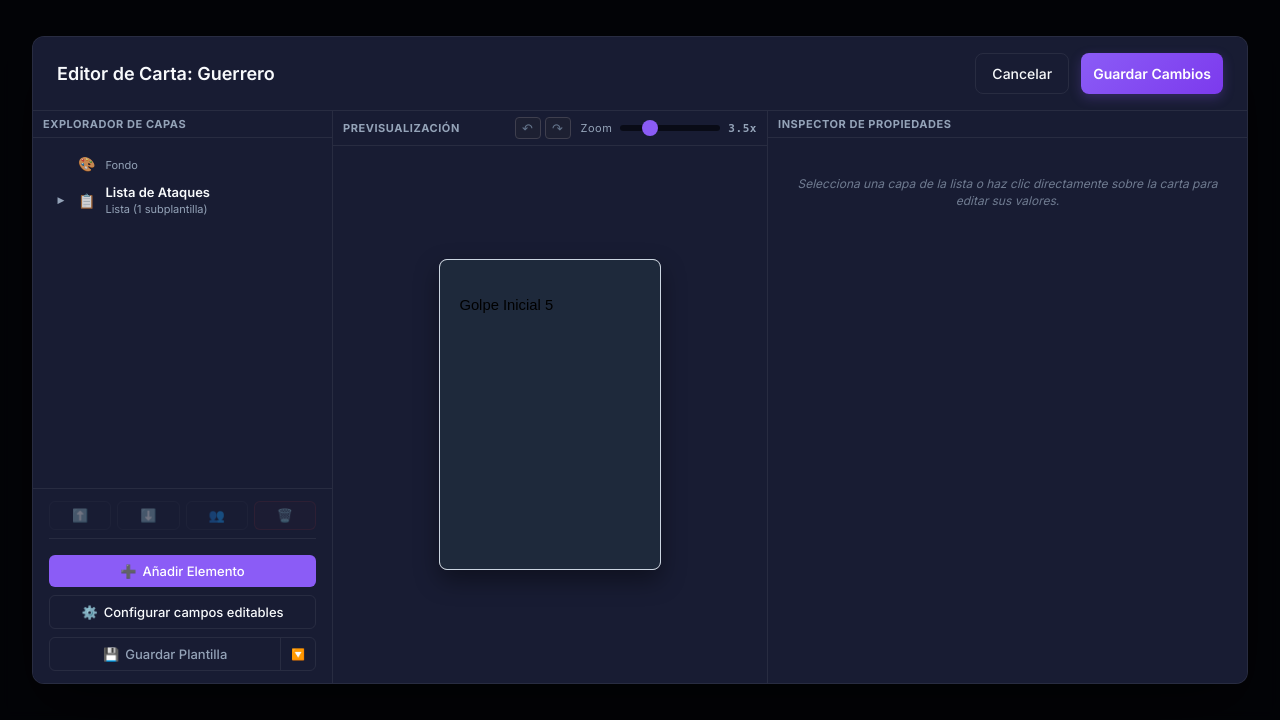
Test case: SRS-072: Elemento Lista con Subplantillas Hijas y Gestión Dinámica › RF-2: Inspector de Lista en EditCardModal › permite añadir instancias de la subplantilla a la plantilla
The image size is (1280, 720).
What coordinates should you click on to do the following:
click the text "Lista de Ataques"
I would click on:
 (132, 200)
Its box is [54,184,210,216].
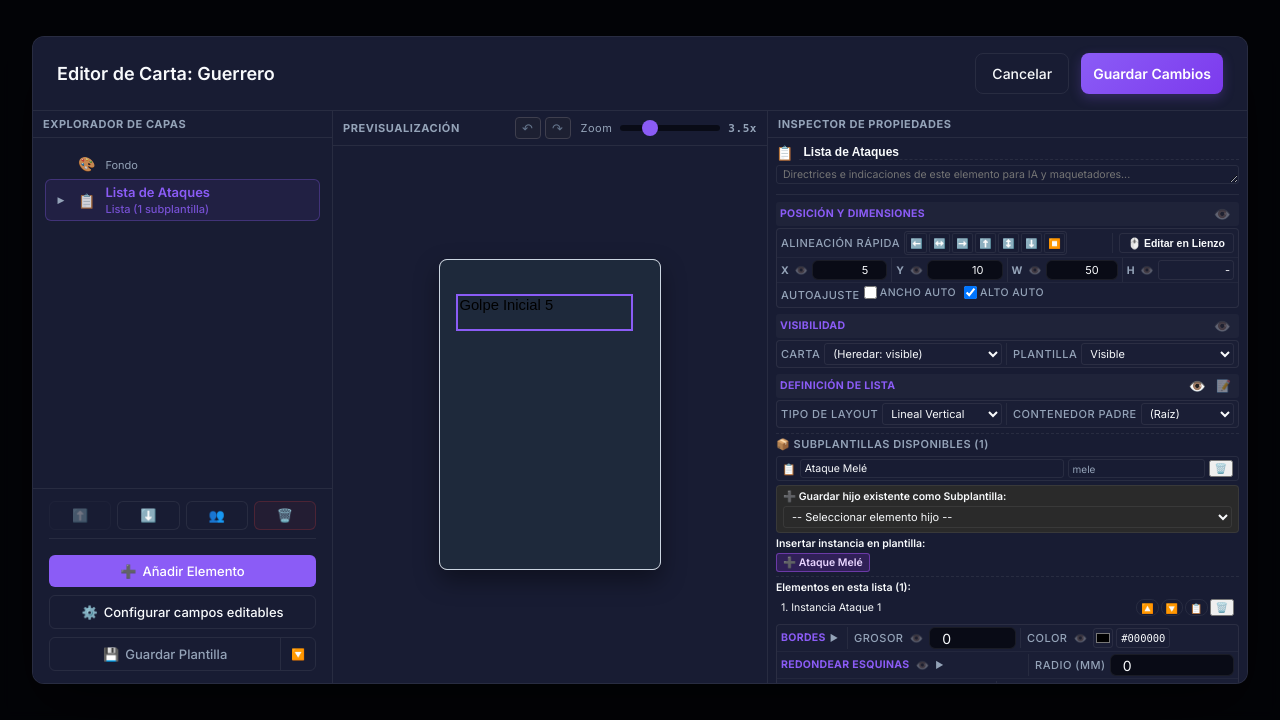
Result: the button "➕ Ataque Melé" is shown
What coordinates should you click on to do the following:
click the button "➕ Ataque Melé"
I would click on:
 (823, 563)
Its box is [776,553,870,572].
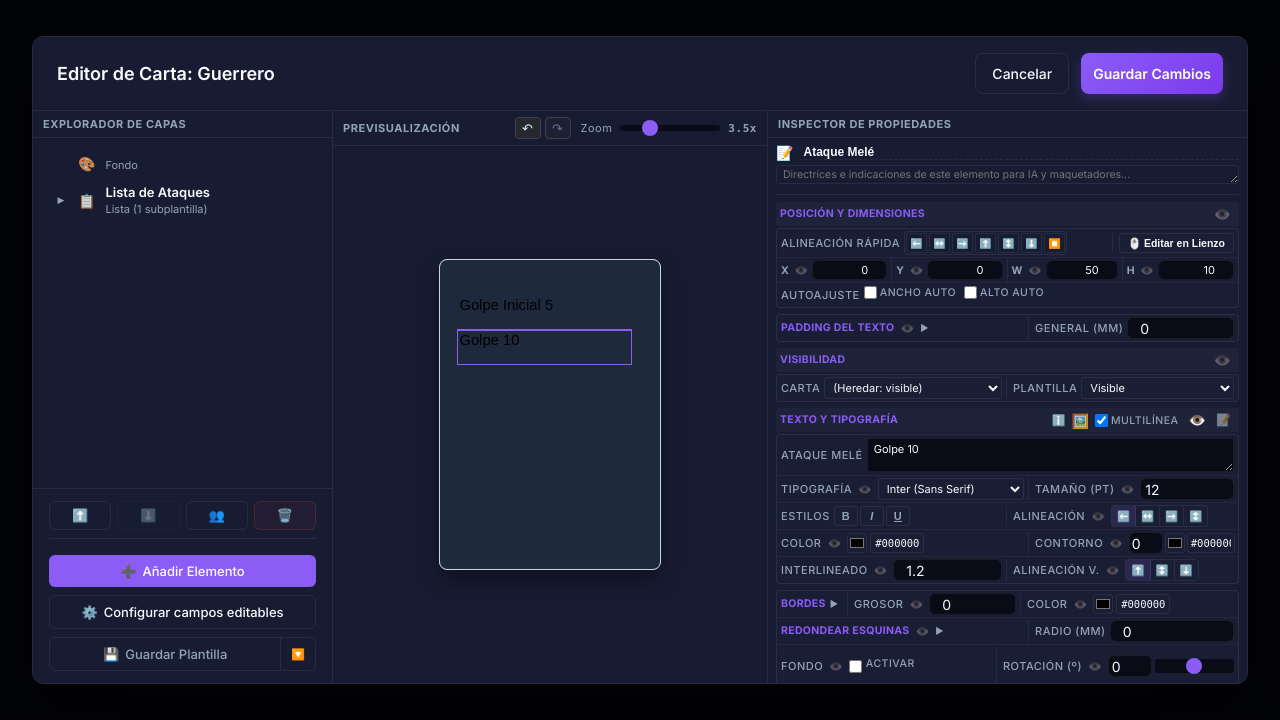
What coordinates should you click on to do the following:
click the text "Lista de Ataques"
I would click on:
 (132, 200)
Its box is [54,184,210,216].
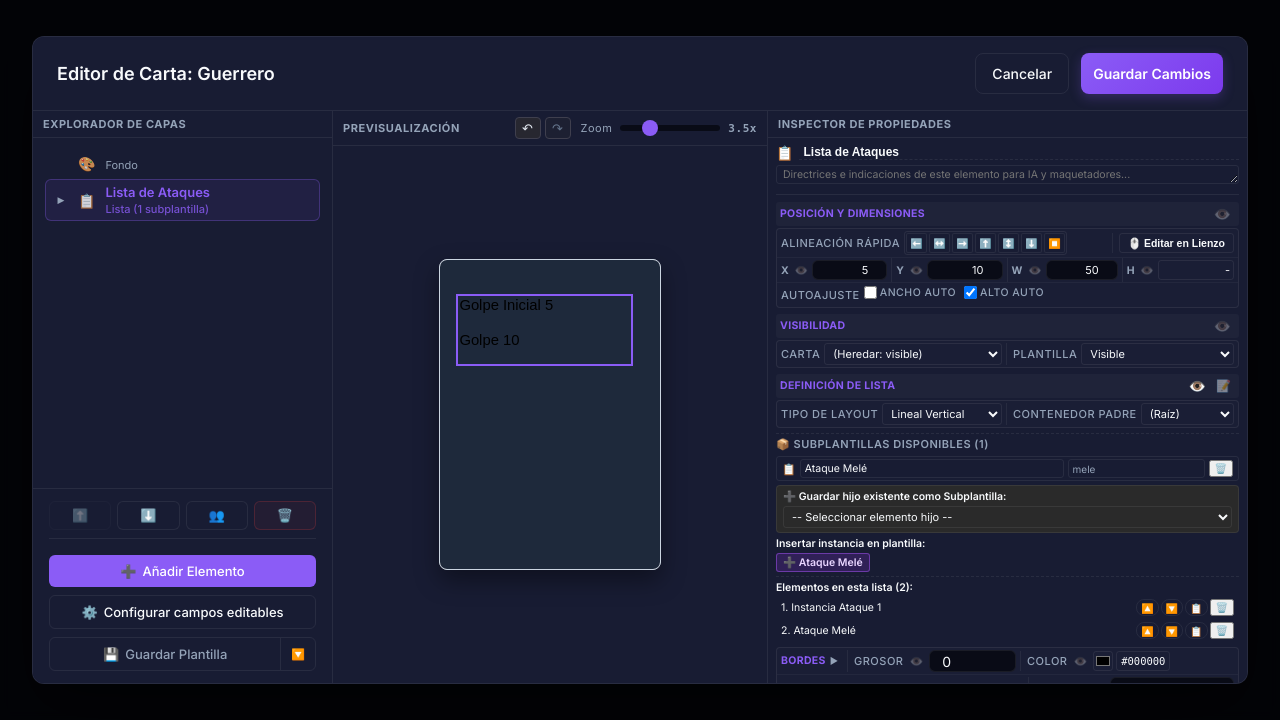
Result: the text "Elementos en esta lista (2):" is shown at [776,581,913,594]
